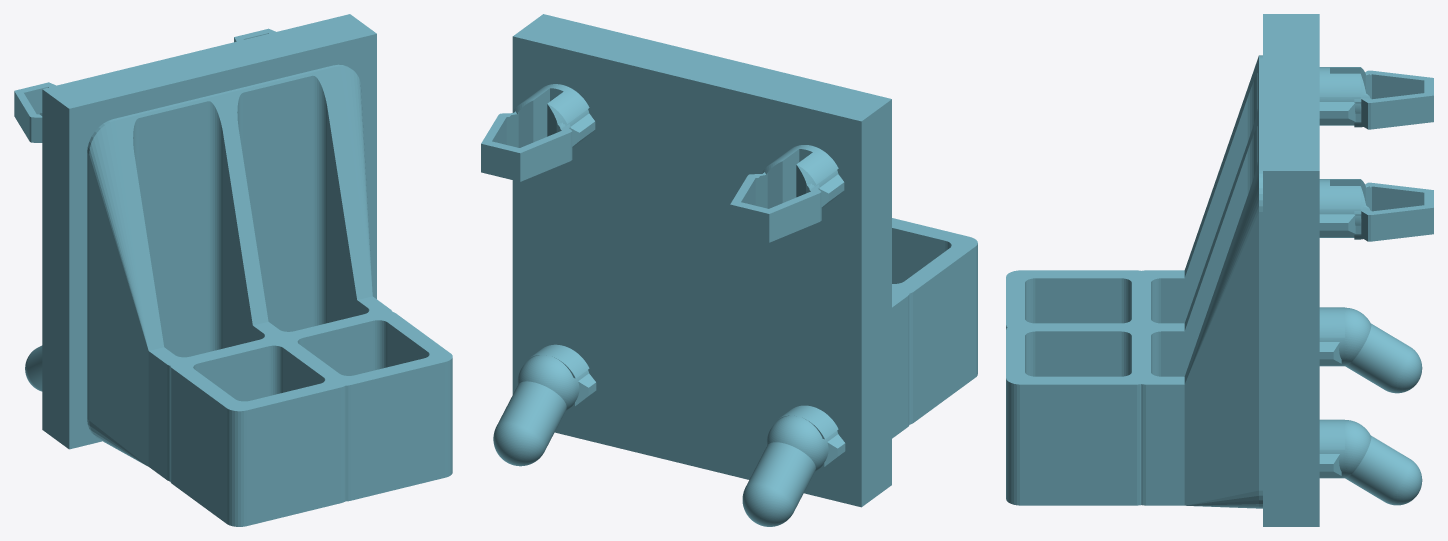
Rendered from part-p02__current-mounts-flat-top-v2__fit-pf02c9-hoop5__print.glb.
3 renders of one model, left to right at view 1: azimuth 30°, elevation 25°; view 2: azimuth 150°, elevation 25°; view 3: azimuth 270°, elevation 25°, orthographic. The views are drawn at different scales.
Visible parts, largest first — view 1: print.stl; view 2: print.stl; view 3: print.stl.
Part boxes in pixels (box(x1,y1,x2,y2)): print.stl: box(14, 14, 452, 526); print.stl: box(481, 14, 977, 526); print.stl: box(1006, 14, 1433, 526).
Bounding box in the file's own units: 0.0356 × 0.0376 × 0.0409.
